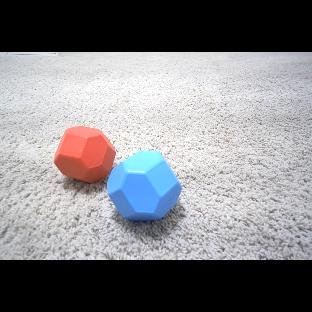V5_BLUE: (108, 149, 182, 224)
V5_RED: (58, 126, 112, 184)
